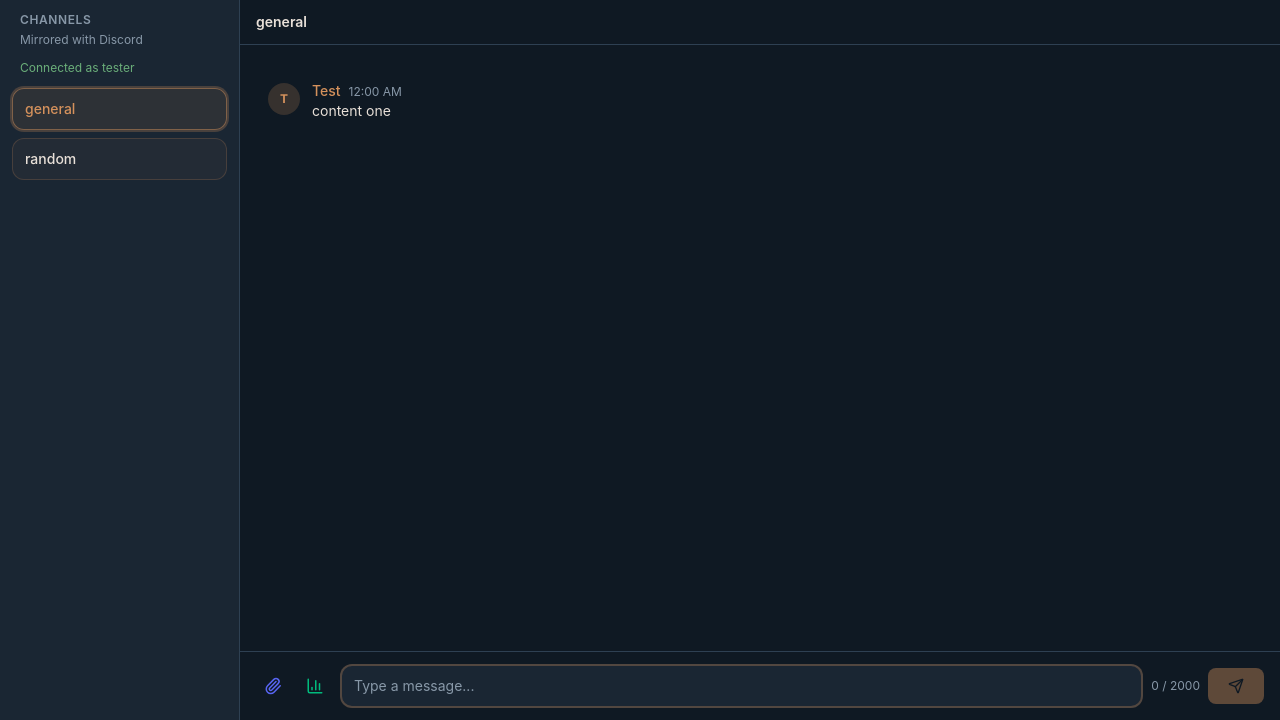
Scenario: CommunityPage loads (R361.4) › from one channel’s messages to another channel, no render for it shows the earlier channel’s messages (R371.1)
The width and height of the screenshot is (1280, 720).
expect the text "content one" is shown: met, box [312,102,391,119]
Click the button "random": [120, 159] box [12,138,227,180]
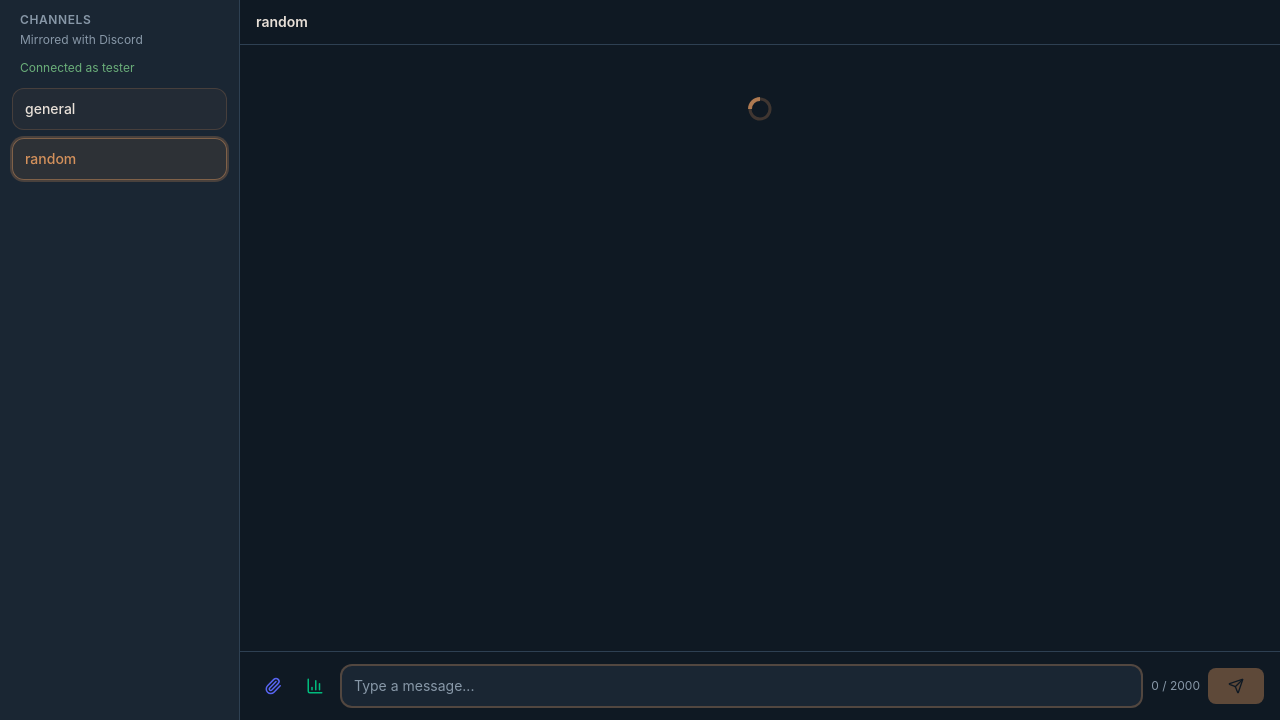
expect the text "content one" is gone: met
